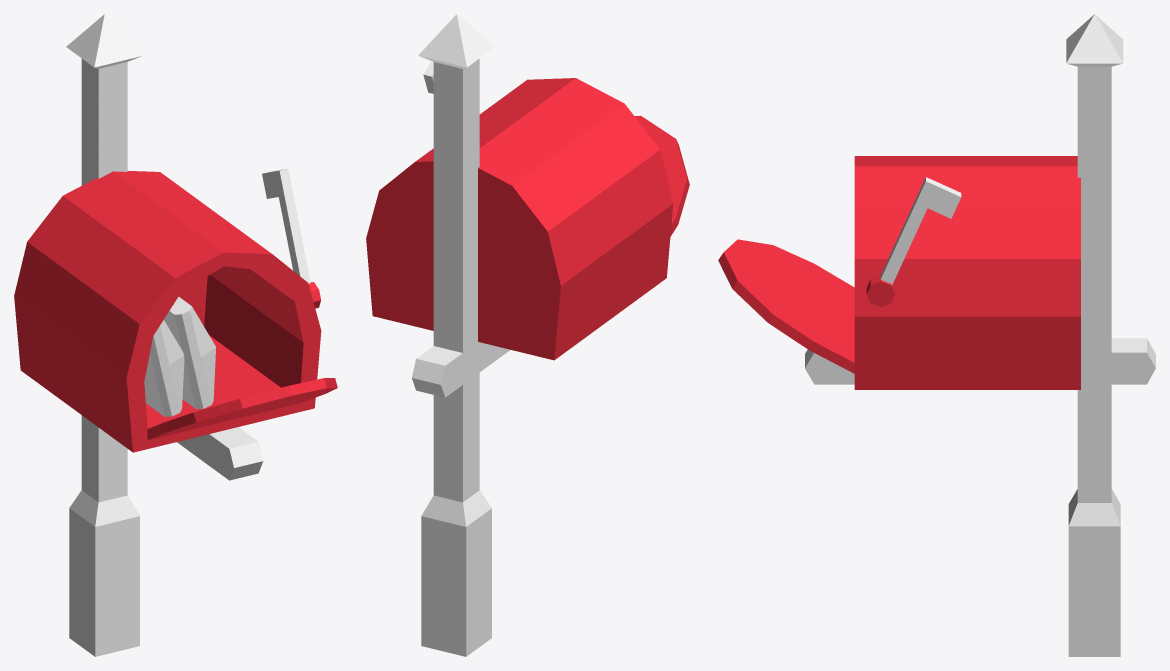
Rendered from MailBox.fbx.
3 views of the same model, side by side, from view 1: azimuth 30°, elevation 25°; view 2: azimuth 150°, elevation 25°; view 3: azimuth 270°, elevation 25° (orthographic).
Parts seen in each view (by area): view 1: Mailbox; view 2: Mailbox; view 3: Mailbox.
Part boxes in pixels (x1,y1,x2,y2): Mailbox: (14, 14, 337, 656); Mailbox: (366, 14, 689, 656); Mailbox: (718, 14, 1155, 656).
Bounding box in the file's own units: 206 × 616 × 387.
Materials: 1 (1 with a texture image).
